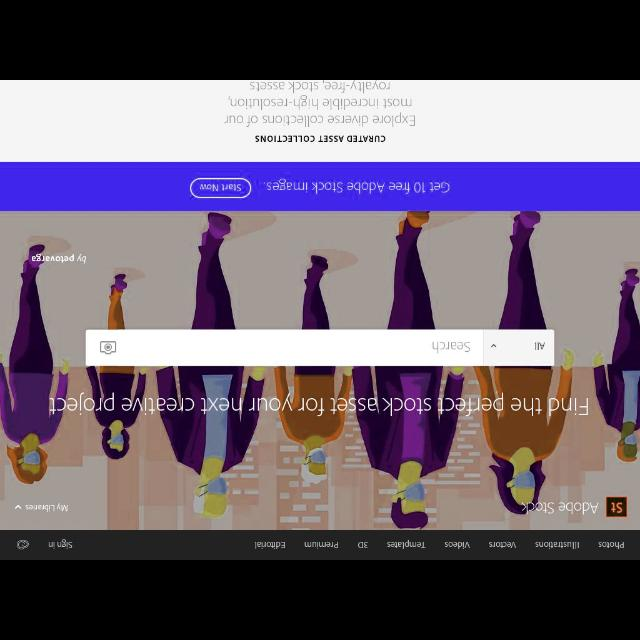backgroundimage: (1, 212, 638, 530)
icon: (99, 340, 117, 356), (15, 505, 21, 509), (492, 344, 496, 348)
image: (605, 496, 629, 518), (15, 538, 29, 550)
input: (84, 329, 482, 366)
multitab: (253, 540, 625, 550)
spinner: (483, 329, 555, 365), (15, 502, 70, 514)
text: (48, 392, 590, 416), (223, 82, 415, 126), (262, 178, 450, 194), (521, 501, 599, 515), (254, 134, 386, 142), (32, 253, 86, 264), (431, 340, 472, 354), (536, 540, 580, 550), (386, 539, 426, 549), (198, 184, 242, 192), (26, 504, 68, 512), (598, 540, 626, 550), (304, 540, 338, 548), (444, 540, 470, 550), (254, 541, 286, 549), (488, 541, 516, 549), (48, 540, 72, 548), (358, 540, 368, 550), (534, 340, 544, 350)
textbutton: (190, 178, 252, 198), (45, 538, 75, 550)
toolbar: (1, 532, 639, 558)
